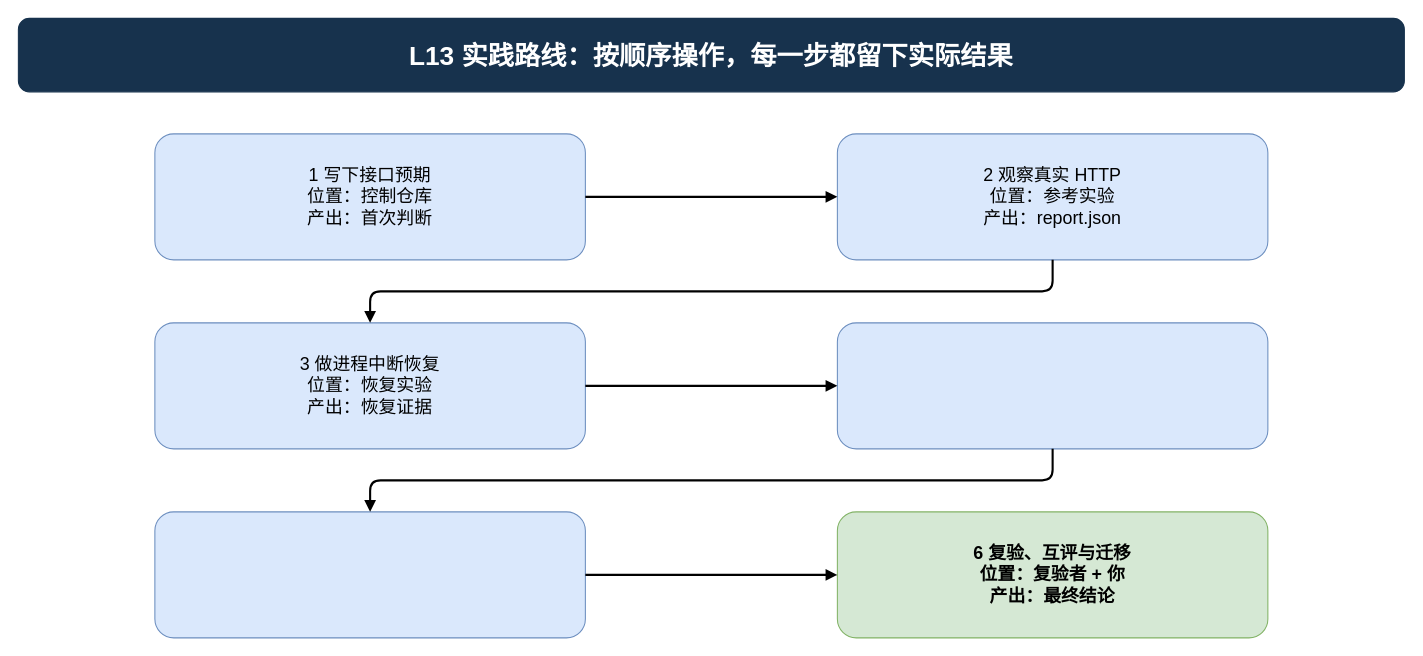
The diagram is 1423 pixels wide and 656 high, and some of its shapes have lost their labels. Here are the shapes that lost their labels. From the top down, the box of each, then its label:
(836, 322, 1268, 449): 4 实现两个最小接口 位置：个人候选 产出：提交与查询
(154, 511, 585, 638): 5 接回 FlowERP 位置：同一候选 产出：Task 与采购对象
